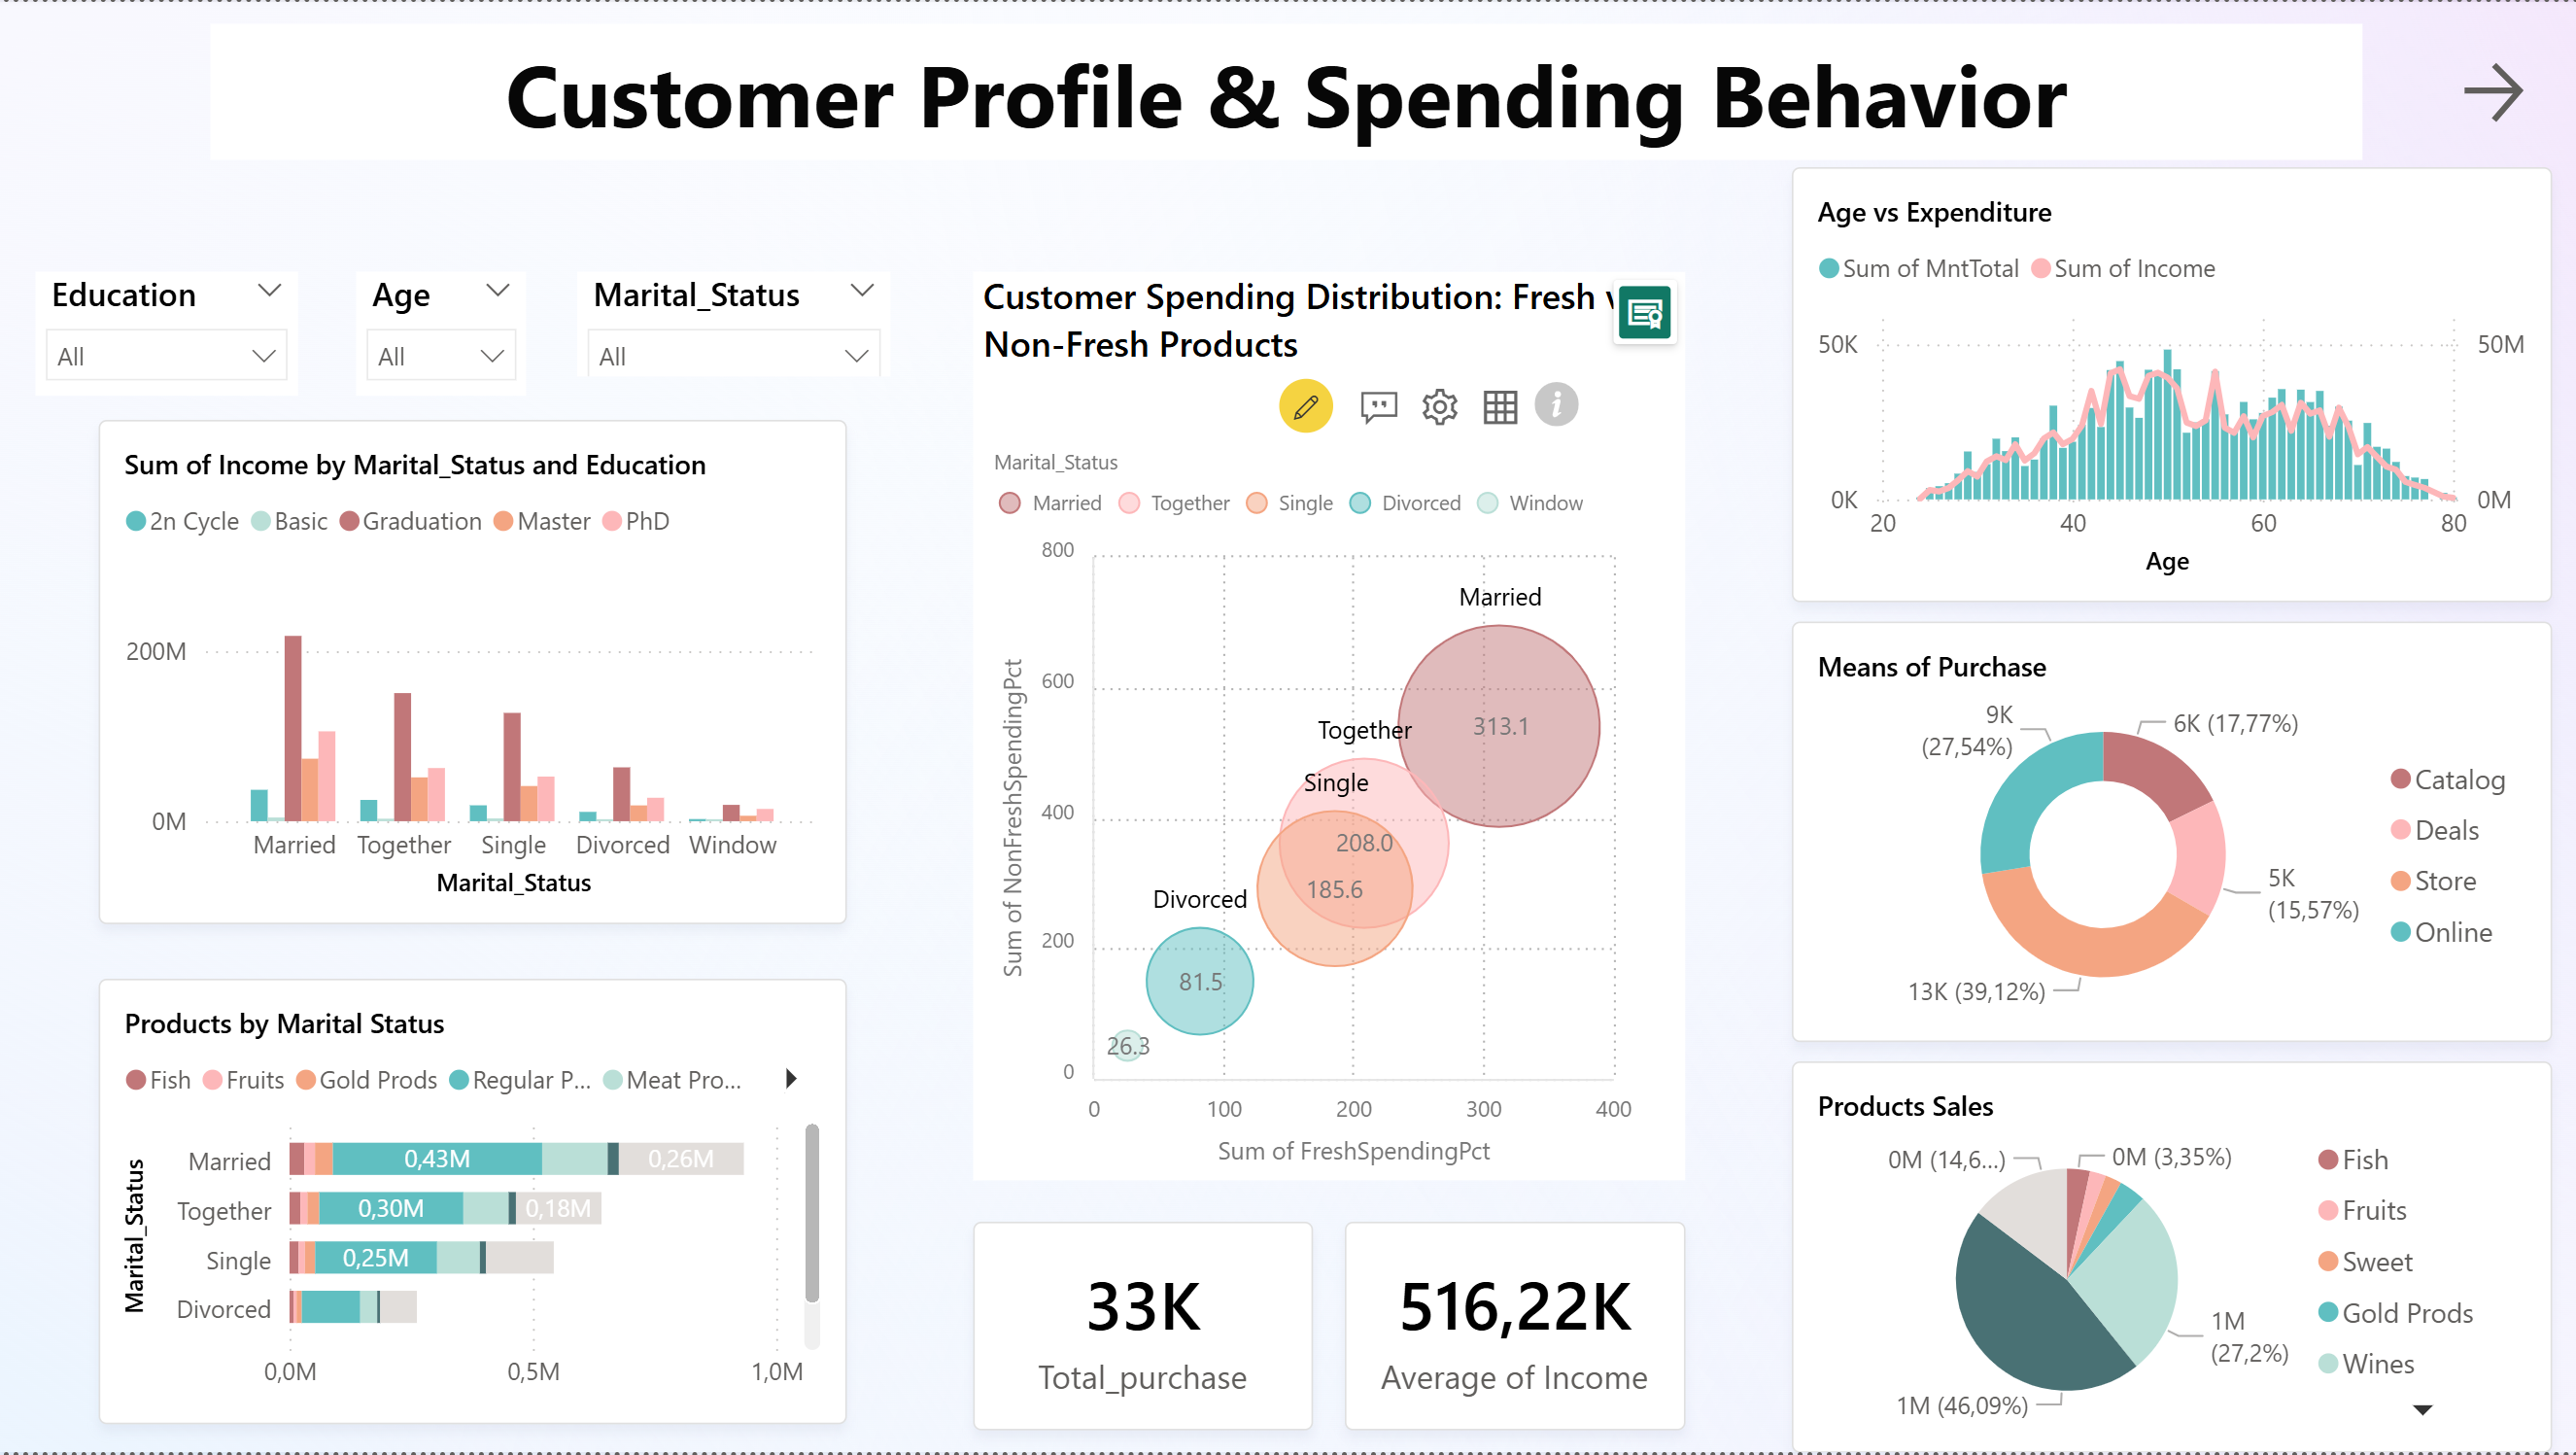

This screenshot's page, from the dashboard's own definition file:
{"tool":"powerbi","page":{"name":"Page 1","canvas":[1280,720],"ordinal":0},"visuals":[{"type":"textbox","box":[105,10.9,1068.9,67.6],"z":0},{"type":"performanceBubbleChartFBAAA829CB604E5CAB4F21729F233294","title":"Customer Spending Distribution: Fresh vs Non-Fresh Products","fields":{"category":["ifood_df.Marital_Status","ifood_df.Education"],"xmeasure":["Sum(ifood_df.FreshSpendingPct)"],"ymeasure":["Sum(ifood_df.NonFreshSpendingPct)"],"zmeasure":["Sum(ifood_df.TotalSpending)"]},"box":[483.8,133.9,353.5,451.2],"z":1000},{"type":"clusteredColumnChart","title":"Sum of Income by Marital_Status and Education","fields":{"Y":["Sum(ifood_df.Income)"],"Category":["ifood_df.Marital_Status"],"Series":["ifood_df.Education"]},"box":[49.5,207.3,371.7,250.3],"z":2000},{"type":"barChart","title":"Products by Marital Status","fields":{"Category":["ifood_df.Marital_Status"],"Y":["Sum(ifood_df.MntFishProducts)","Sum(ifood_df.MntFruits)","Sum(ifood_df.MntGoldProds)","Sum(ifood_df.MntRegularProds)","Sum(ifood_df.MntMeatProducts)","Sum(ifood_df.MntSweetProducts)","Sum(ifood_df.MntWines)"]},"box":[49.5,484.7,371.7,221.3],"z":3000},{"type":"lineStackedColumnComboChart","title":"Age vs Expenditure","fields":{"Category":["ifood_df.Age"],"Y2":["Sum(ifood_df.Income)"],"Y":["Sum(ifood_df.MntTotal)"]},"box":[890.4,82,377.6,216],"z":4000},{"type":"card","fields":{"Values":["Measure.Total_purchase"]},"box":[483.8,605.6,168.9,103.8],"z":5000},{"type":"card","fields":{"Values":["Avg(ifood_df.Income)"]},"box":[668.6,606.1,169,103.7],"z":6000},{"type":"pieChart","title":"Products Sales","fields":{"Y":["Sum(ifood_df.MntFishProducts)","Sum(ifood_df.MntFruits)","Sum(ifood_df.MntSweetProducts)","Sum(ifood_df.MntGoldProds)","Sum(ifood_df.MntWines)","Sum(ifood_df.MntRegularProds)","Sum(ifood_df.MntMeatProducts)"]},"box":[890.4,526,377.6,194.2],"z":7000},{"type":"donutChart","title":"Means of Purchase ","fields":{"Y":["Sum(ifood_df.NumCatalogPurchases)","Sum(ifood_df.NumDealsPurchases)","Sum(ifood_df.NumStorePurchases)","Sum(ifood_df.NumWebPurchases)"]},"box":[890.4,307.6,377.6,208.7],"z":8000},{"type":"slicer","fields":{"Values":["ifood_df.Education"]},"box":[18.1,133.9,130.3,61.5],"z":9000},{"type":"slicer","fields":{"Values":["ifood_df.Marital_Status"]},"box":[287.1,133.9,155.6,51.9],"z":10000},{"type":"slicer","fields":{"Values":["ifood_df.Age"]},"box":[177.3,133.9,84.5,61.5],"z":11000},{"type":"actionButton","box":[1218.7,25.2,48.6,39.2],"z":12000}]}

Visuals, with their boxes in screenshot pixels (x1, y1, x2, y2), scaled from the page's 1280x720 canvas onto the 2576x1455 screenshot:
textbox: l=211, t=22, r=2362, b=158
"Customer Spending Distribution: Fresh vs Non-Fresh Products" performanceBubbleChartFBAAA829CB604E5CAB4F21729F233294: l=974, t=270, r=1685, b=1183
"Sum of Income by Marital_Status and Education" clusteredColumnChart: l=100, t=419, r=847, b=924
"Products by Marital Status" barChart: l=100, t=980, r=847, b=1427
"Age vs Expenditure" lineStackedColumnComboChart: l=1792, t=165, r=2552, b=603
card - Measure.Total_purchase: l=974, t=1224, r=1314, b=1434
card - Avg(ifood_df.Income): l=1346, t=1225, r=1686, b=1435
"Products Sales" pieChart: l=1792, t=1063, r=2552, b=1454
"Means of Purchase " donutChart: l=1792, t=622, r=2552, b=1043
slicer - ifood_df.Education: l=36, t=270, r=298, b=395
slicer - ifood_df.Marital_Status: l=578, t=270, r=891, b=375
slicer - ifood_df.Age: l=357, t=270, r=527, b=395
actionButton: l=2453, t=51, r=2551, b=130
